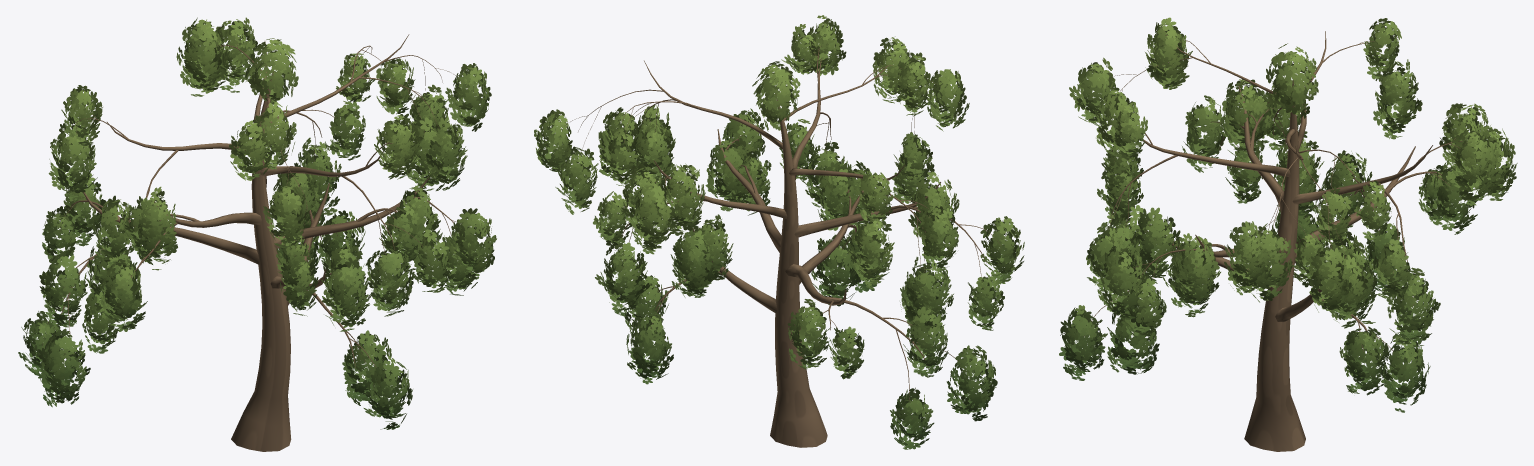
File: tree.gltf
3 renders of one model, left to right at view 1: azimuth 30°, elevation 25°; view 2: azimuth 150°, elevation 25°; view 3: azimuth 270°, elevation 25°, orthographic. The views are drawn at different scales.
Visible parts, largest first — view 1: Tree_LOD0; view 2: Tree_LOD0; view 3: Tree_LOD0.
Part boxes in pixels (x1,y1,x2,y2): Tree_LOD0: (18,17,496,451); Tree_LOD0: (534,15,1024,449); Tree_LOD0: (1059,17,1517,451).
Bounding box in the file's own units: 21.68 × 17.56 × 18.3.
Materials: 2 (2 with a texture image).
